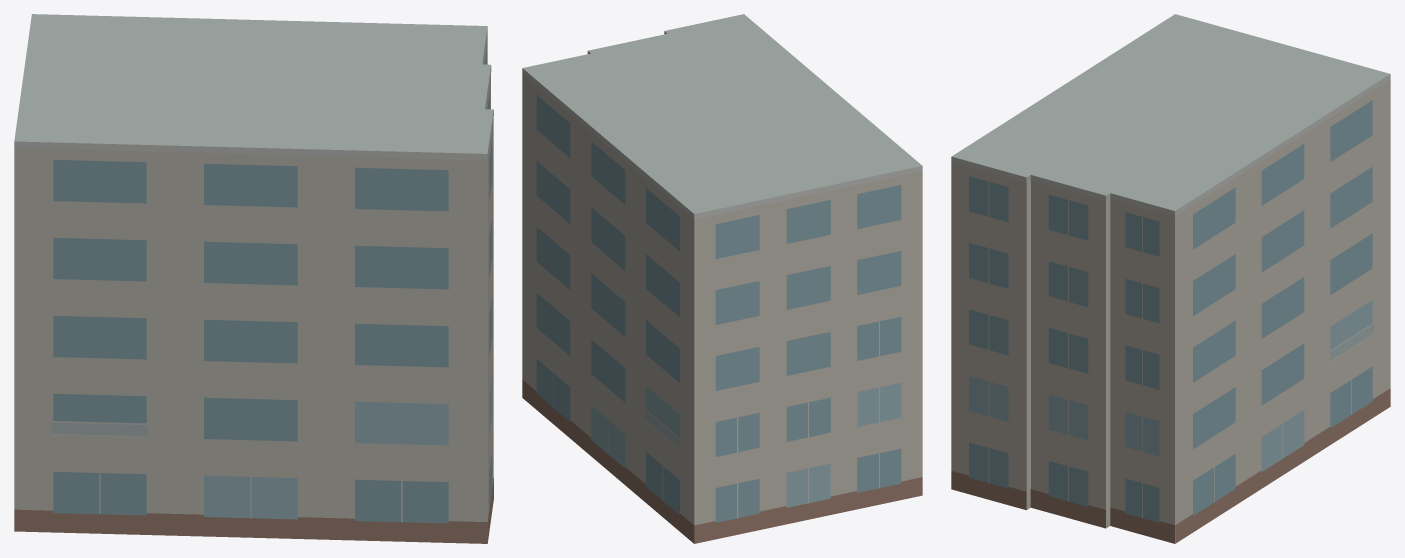
File: survey-upis-32612388.glb
3 renders of one model, left to right at view 1: azimuth 30°, elevation 25°; view 2: azimuth 150°, elevation 25°; view 3: azimuth 270°, elevation 25°, orthographic. The views are drawn at different scales.
Parts seen in each view (by area): view 1: survey-upis-32612388.tmp; view 2: survey-upis-32612388.tmp; view 3: survey-upis-32612388.tmp.
Boxes of the visible parts, x1,y1,x2,y2 form: survey-upis-32612388.tmp: (14,14,493,543); survey-upis-32612388.tmp: (522,14,922,543); survey-upis-32612388.tmp: (951,14,1390,543).
Bounding box in the file's own units: 18.68 × 14.7 × 17.59.
